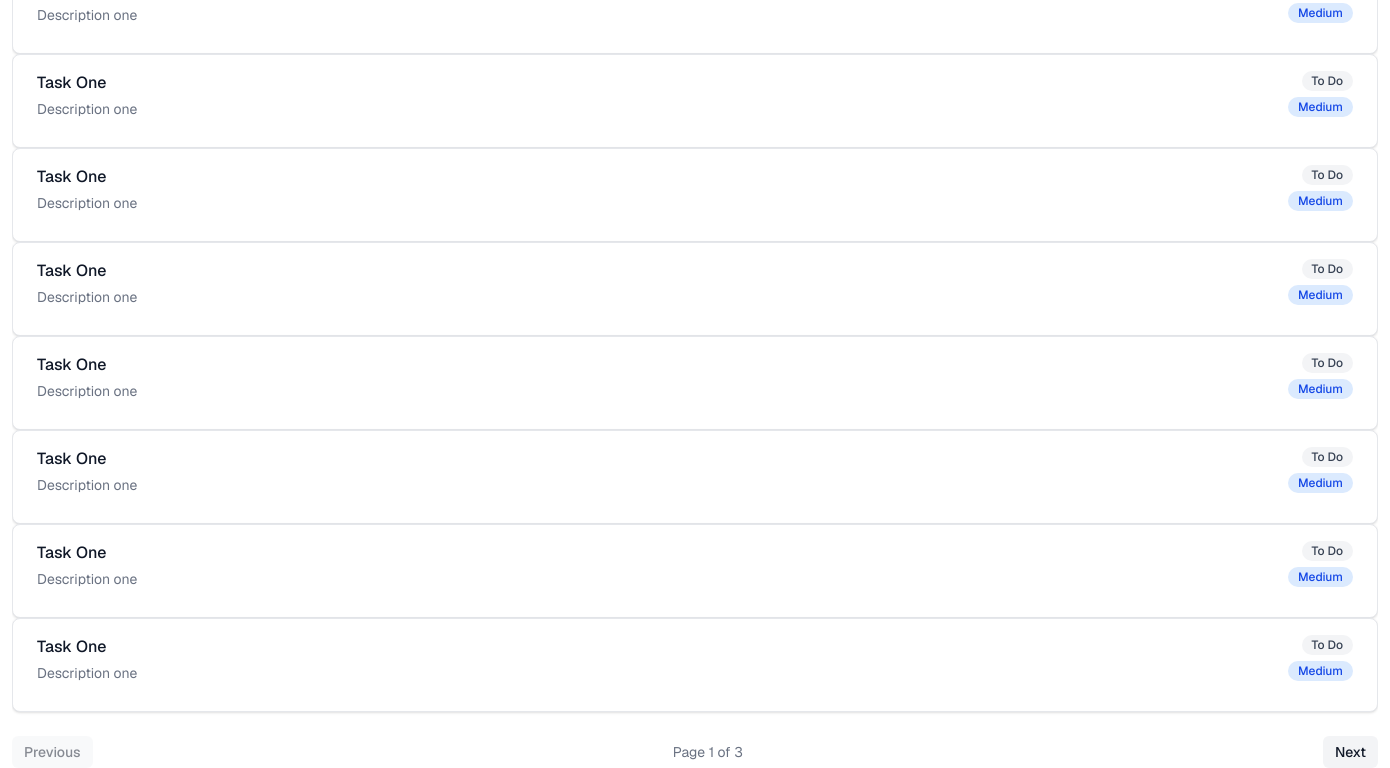
Test case: TaskList › navigates pages via next/previous buttons
(page scrolled)
Expected: the text "Page 1 of 3" is shown, left=673, top=742, right=743, bottom=762
Click the button "Next" at (1350, 752), box left=1323, top=736, right=1378, bottom=767
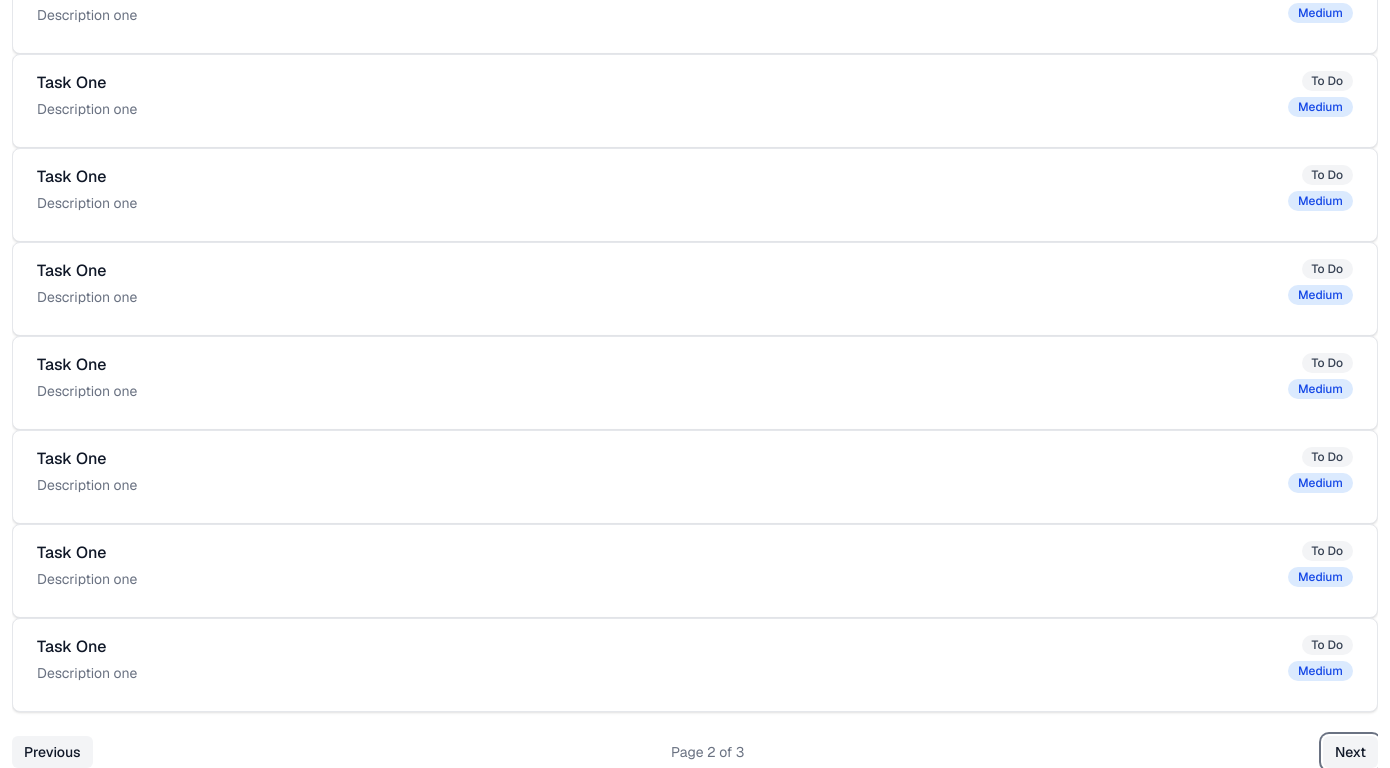
Now the text "Page 2 of 3" is shown, box left=671, top=742, right=744, bottom=762
Click the button "Previous" at (52, 752), box left=12, top=736, right=92, bottom=767
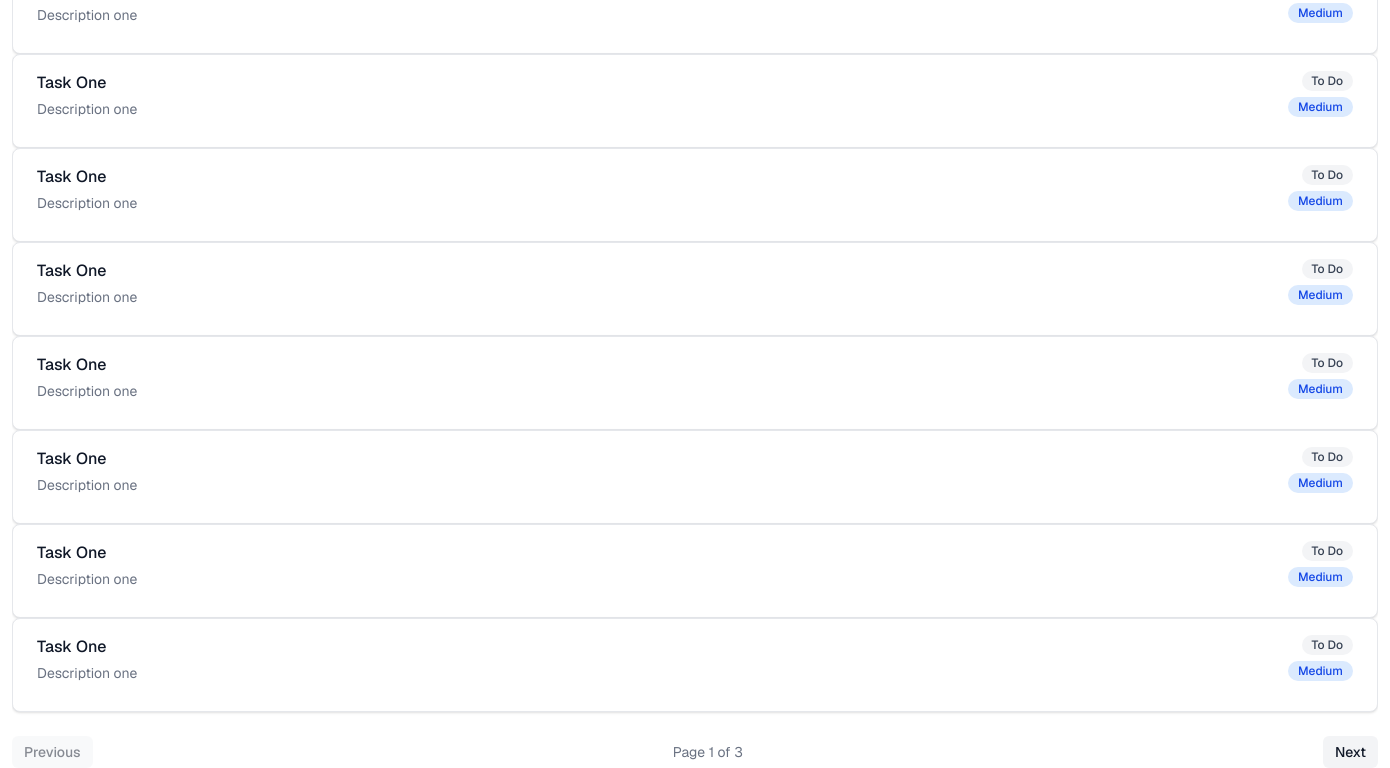
Now the text "Page 1 of 3" is shown, box left=673, top=742, right=743, bottom=762
